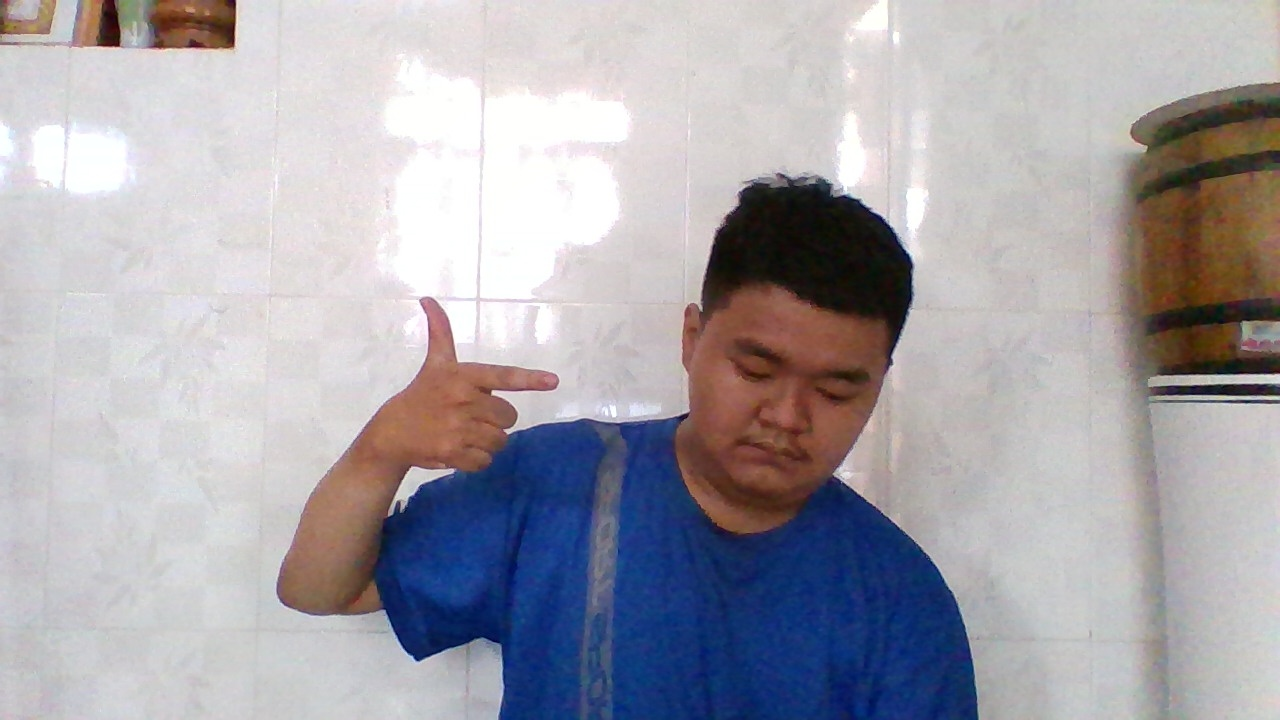G: (368, 288, 570, 477)
